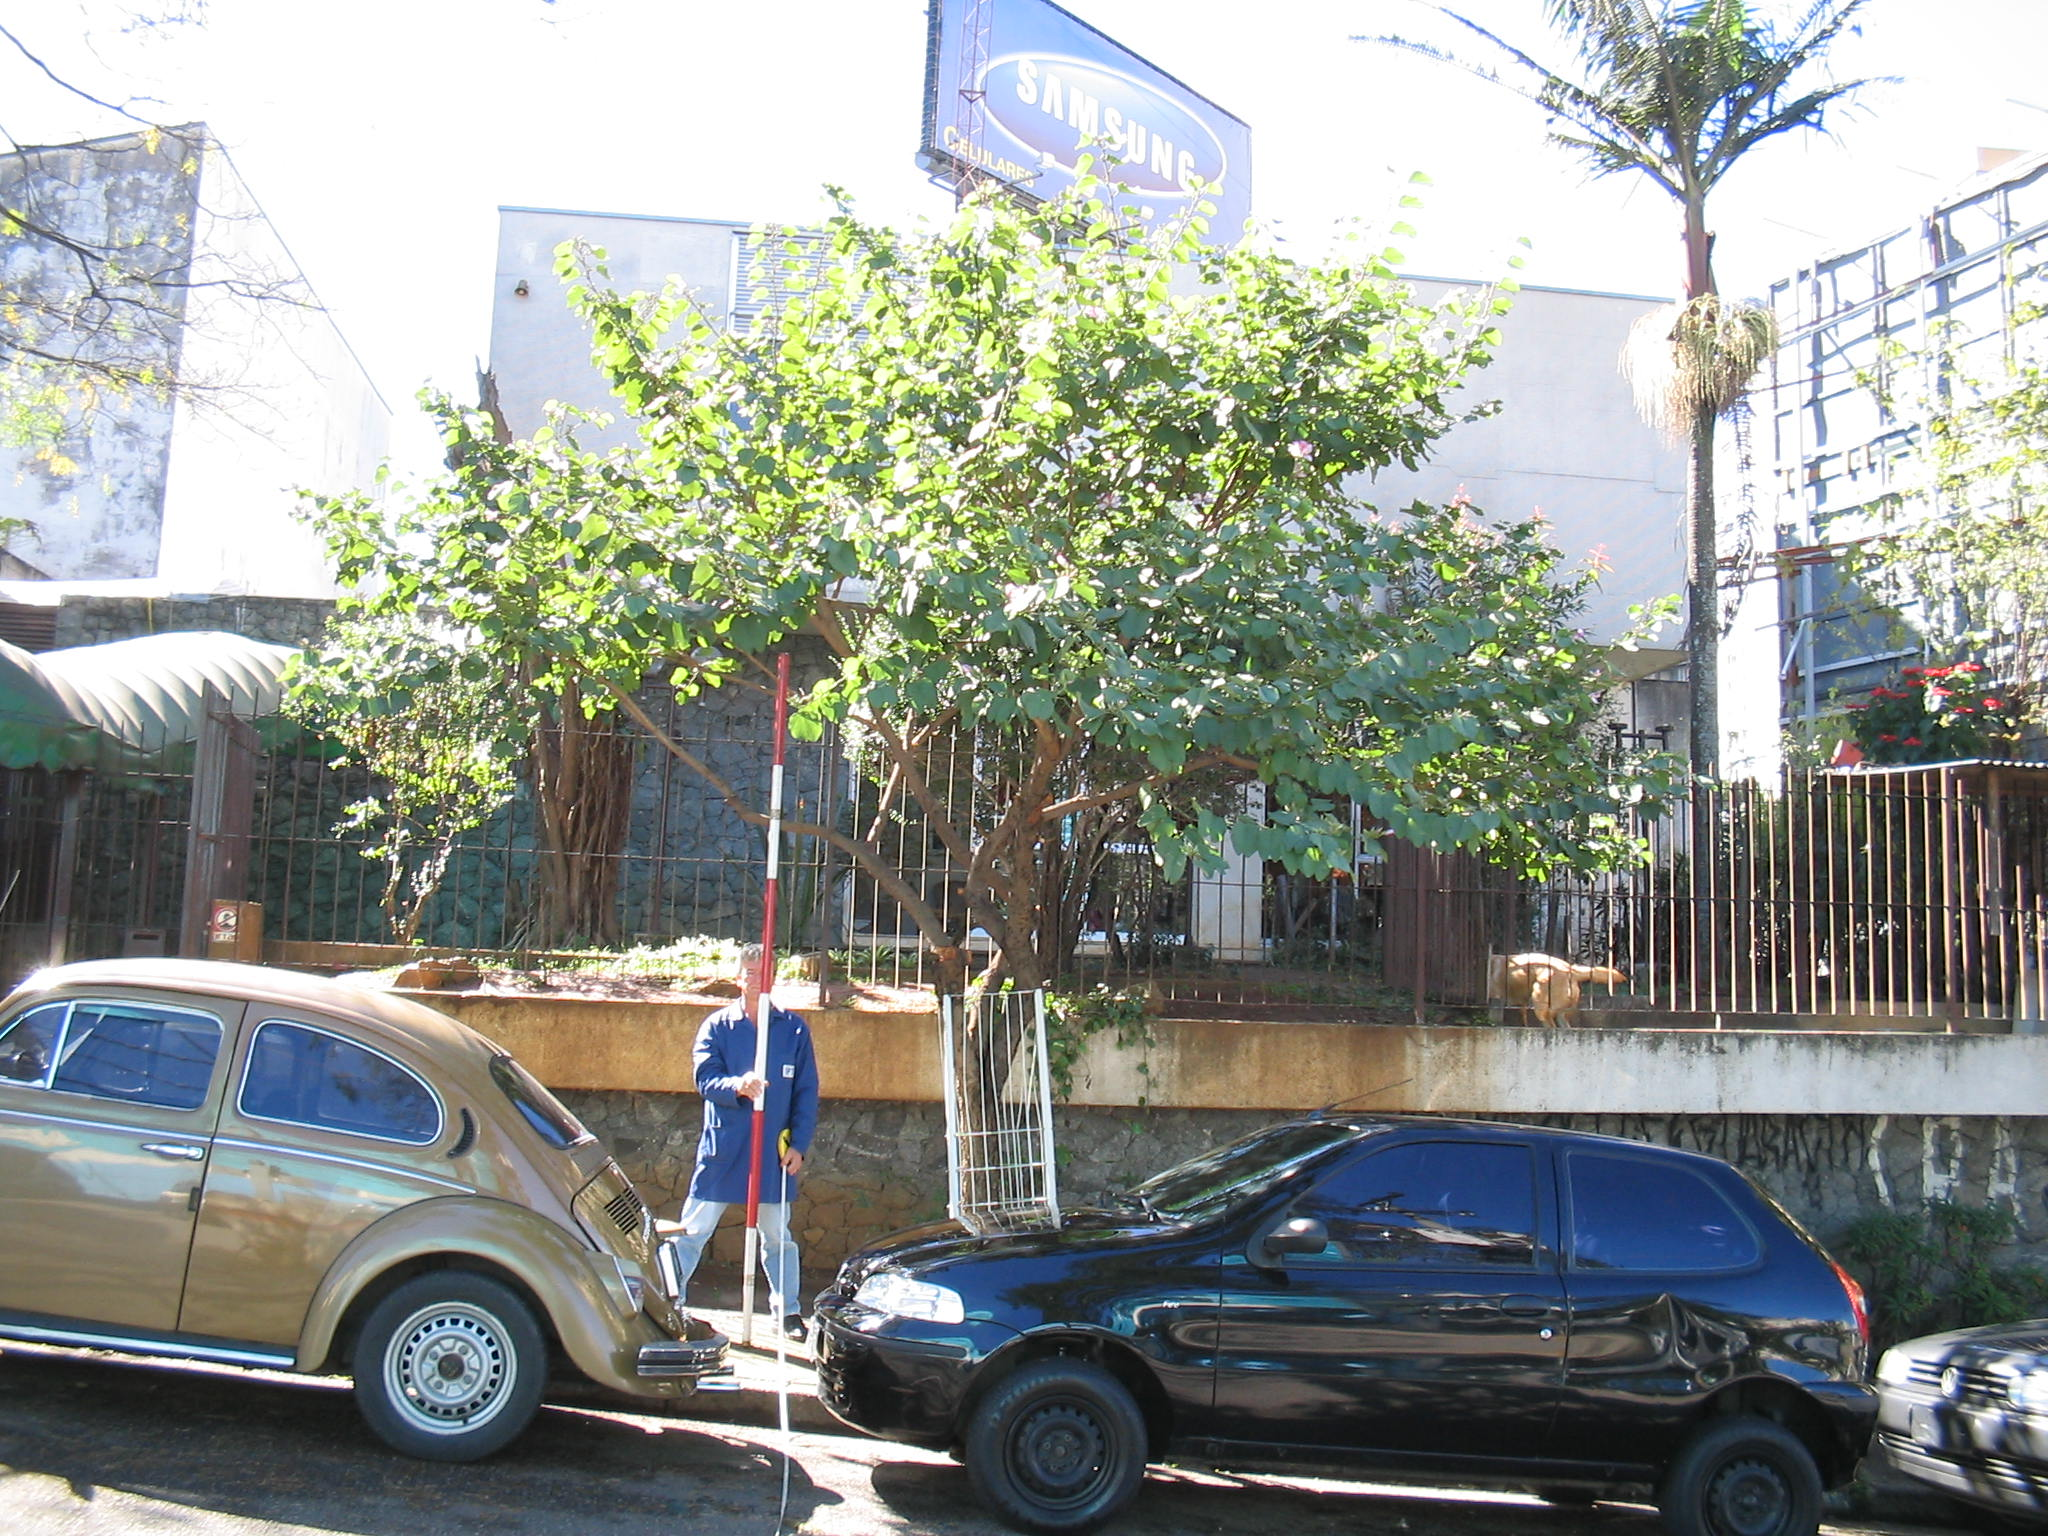crown: (306, 187, 1703, 907)
stem: (921, 1012, 1077, 1354)
stick: (735, 649, 801, 1350)
tree: (297, 174, 1713, 1350)
